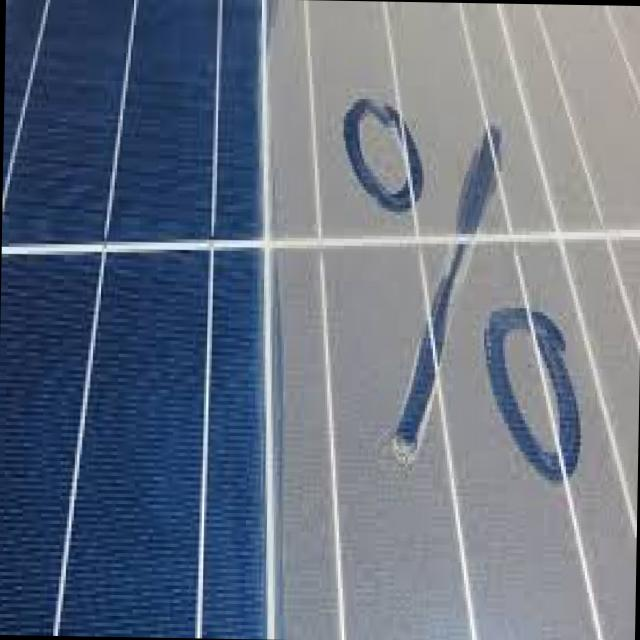faulty: (270, 5, 640, 640)
no faulty: (0, 0, 262, 638)
